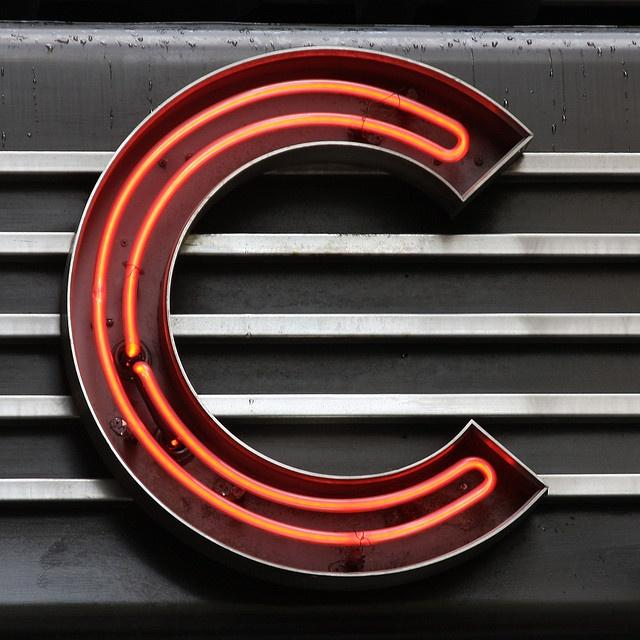C: (32, 26, 584, 598)
